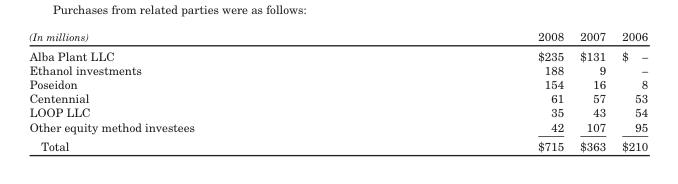table: (28, 29, 647, 152)
table column: (28, 29, 365, 152), (365, 29, 571, 152), (571, 29, 613, 152), (613, 29, 647, 152)
table column header: (28, 29, 647, 45)
table row: (28, 45, 647, 62), (28, 119, 647, 136), (28, 29, 647, 45), (28, 136, 647, 152), (28, 90, 647, 105), (28, 62, 647, 76), (28, 76, 647, 90), (28, 105, 647, 119)
